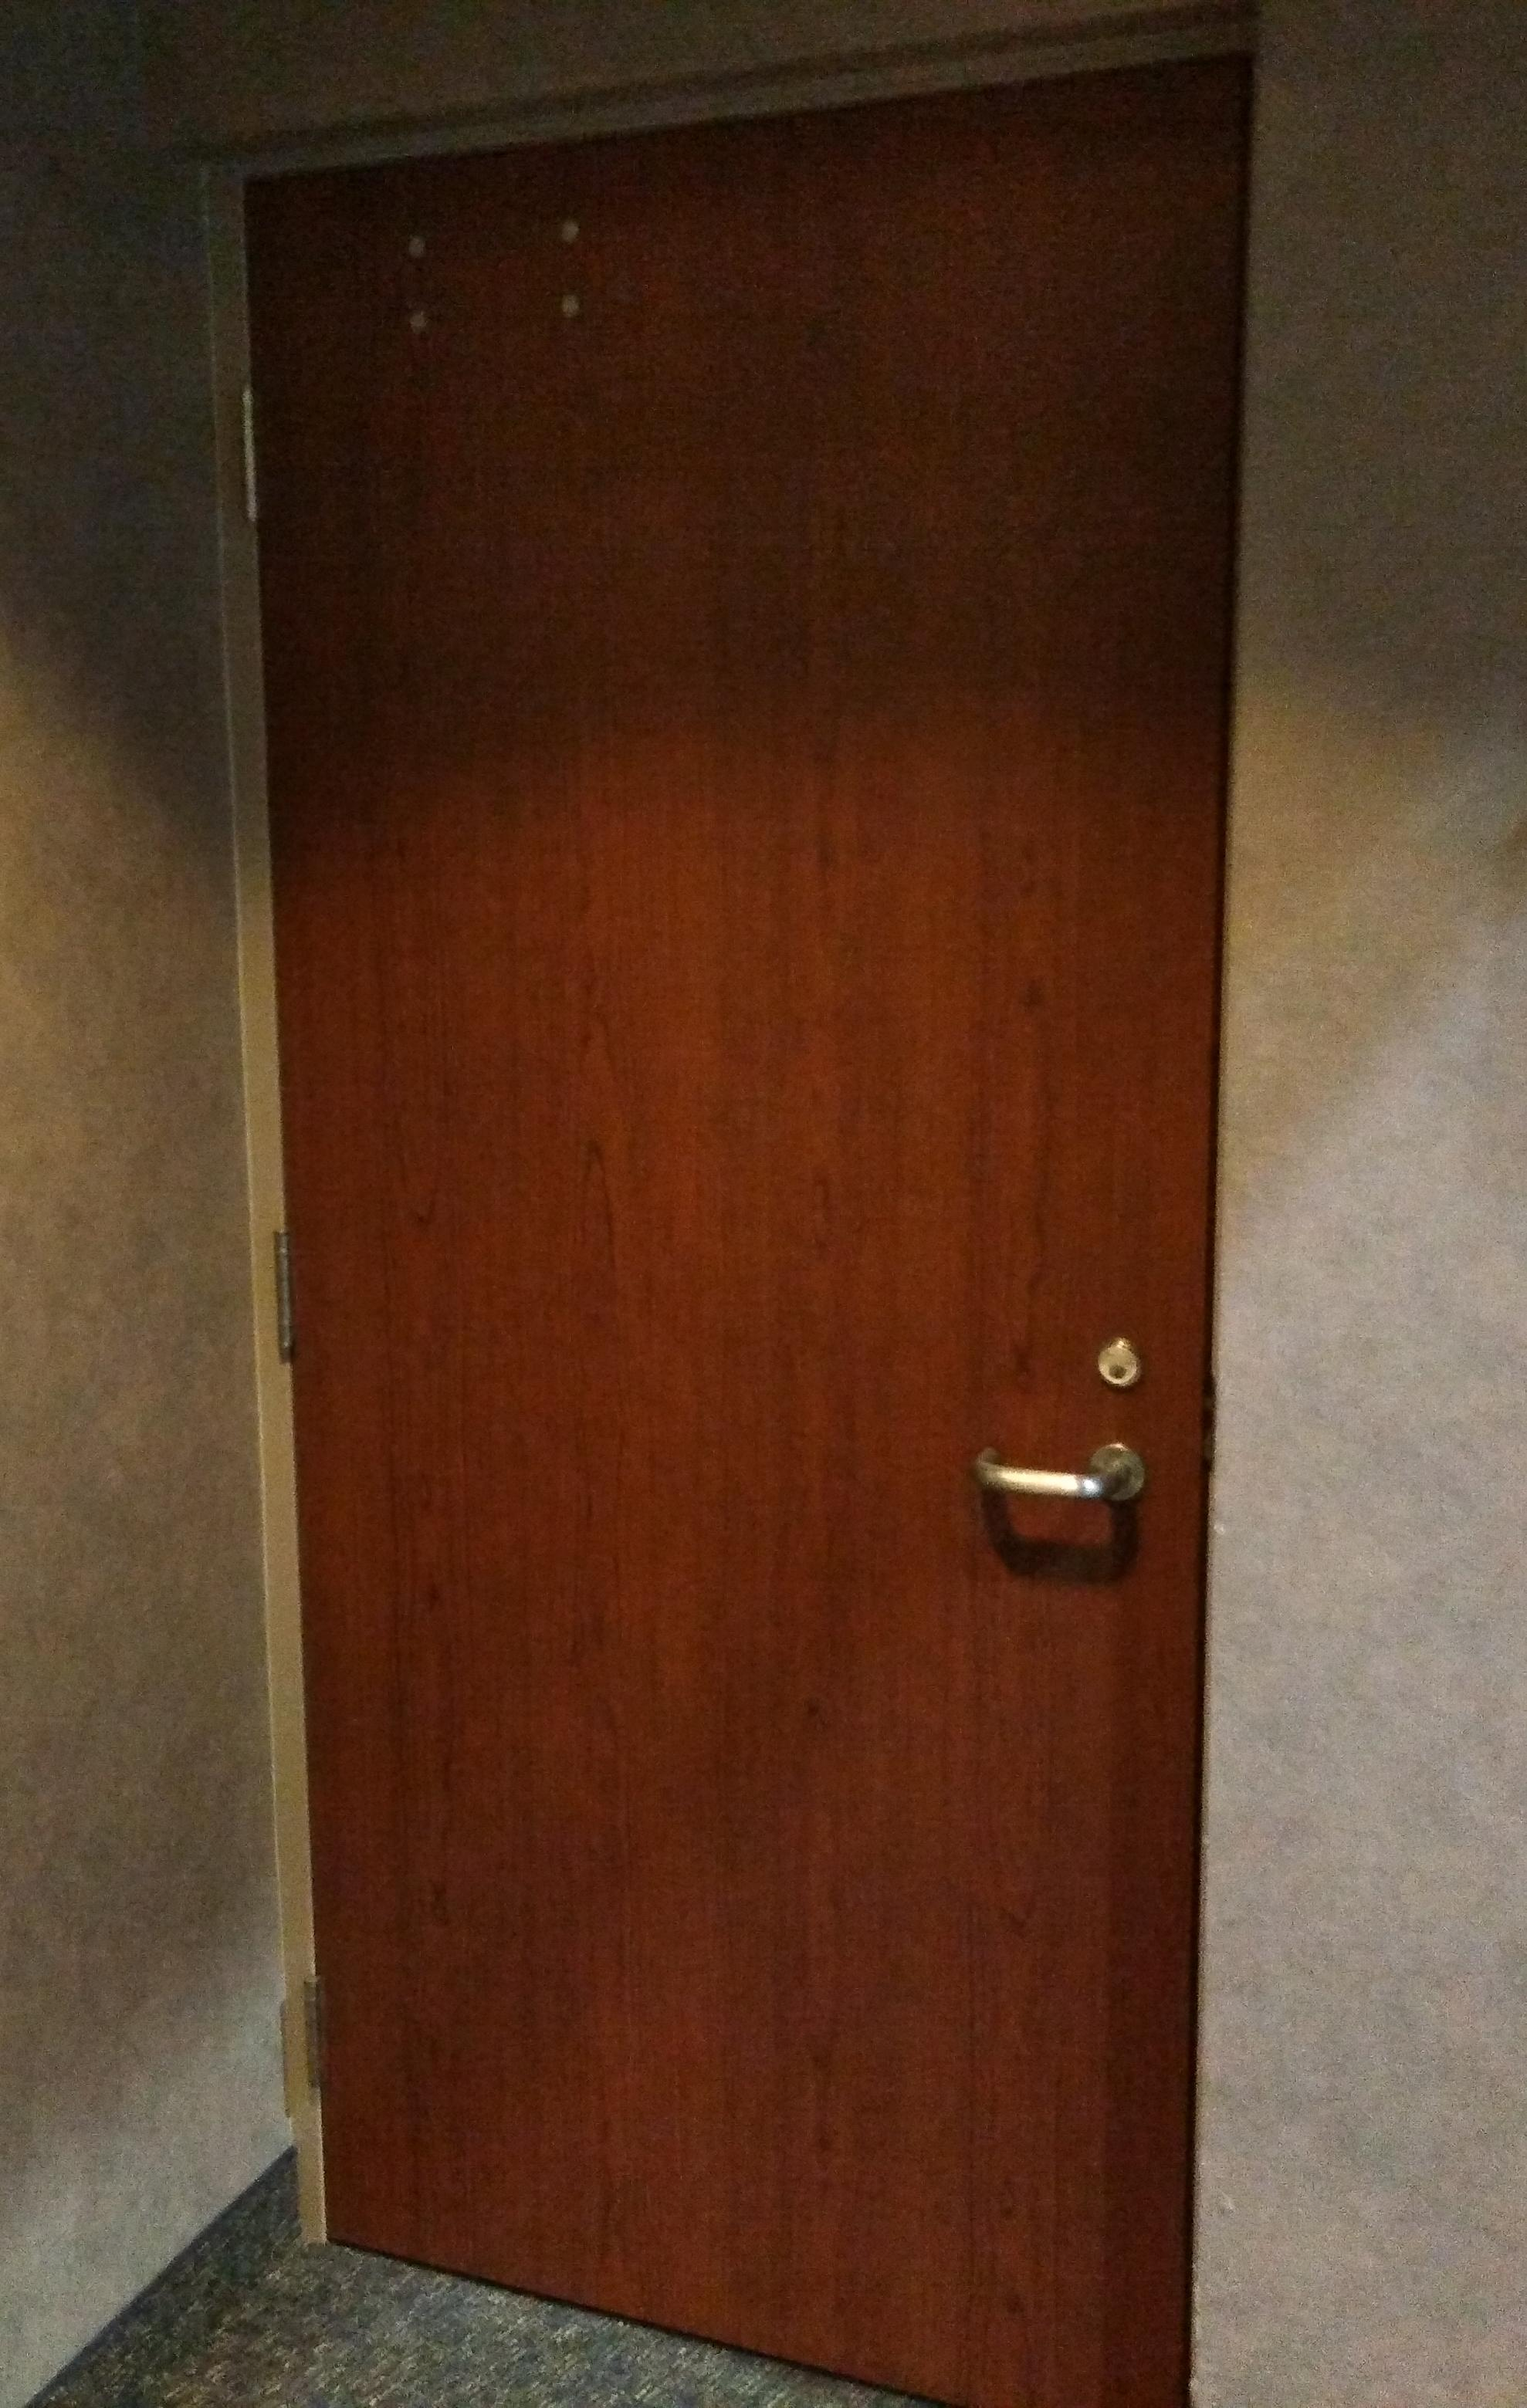door: (198, 16, 1262, 2406)
